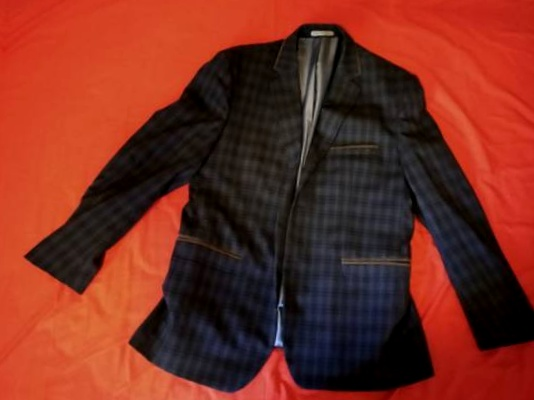Blazer: (34, 0, 534, 400), (66, 0, 534, 5)
